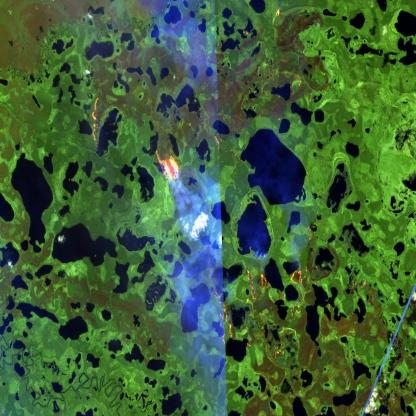fire: (218, 257, 312, 363), (149, 138, 183, 190), (82, 91, 102, 148)
